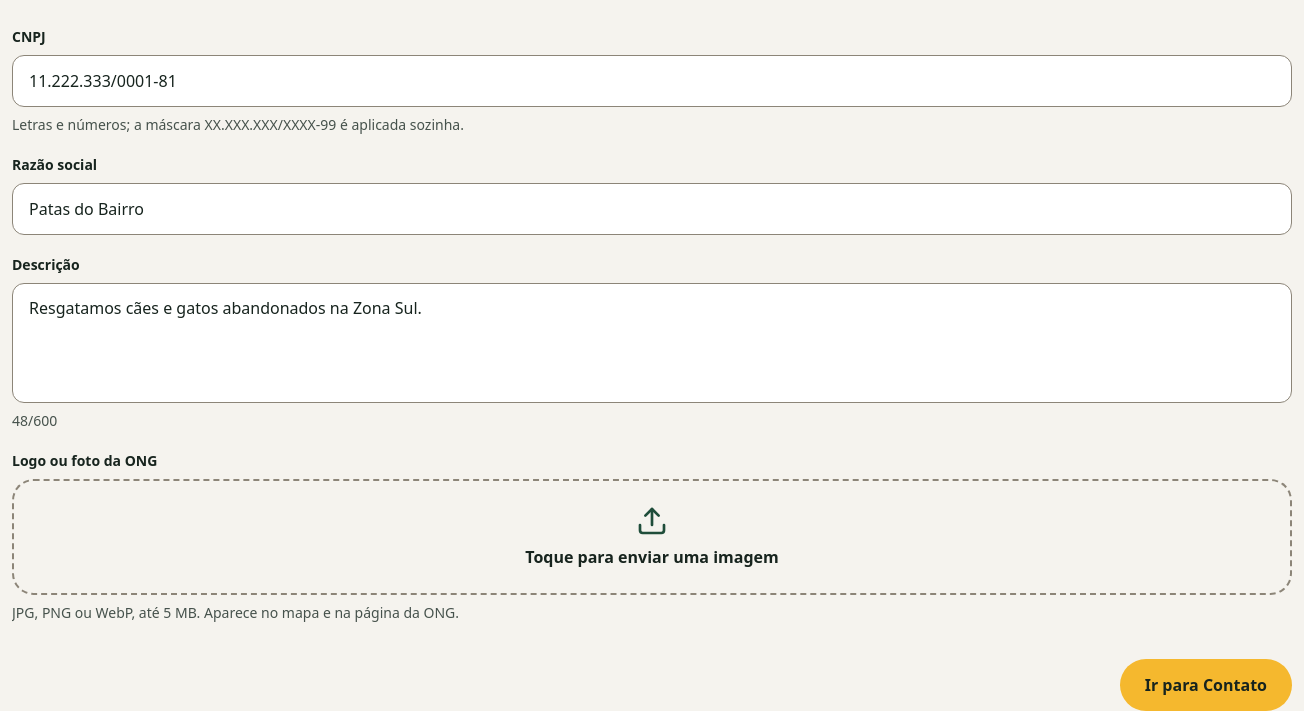
Test: StepAbout › enquanto confere o CNPJ no envio, o botão fica desabilitado
The image size is (1304, 711).
(page scrolled)
Click the button "Ir para Contato". click: (1206, 685)
box: [1120,659,1292,710]
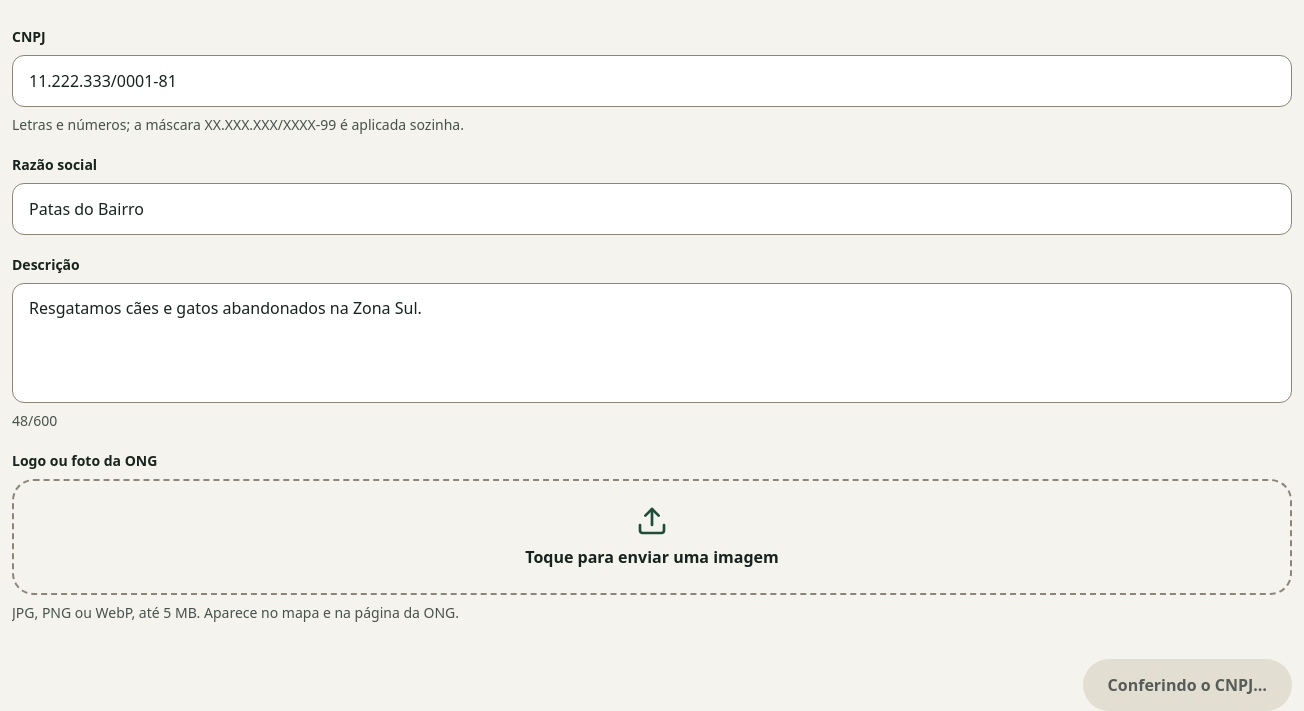
Check: the button "Conferindo o CNPJ…" is disabled, box [1083,659,1292,710]
